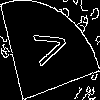V: (25, 24, 69, 70)
